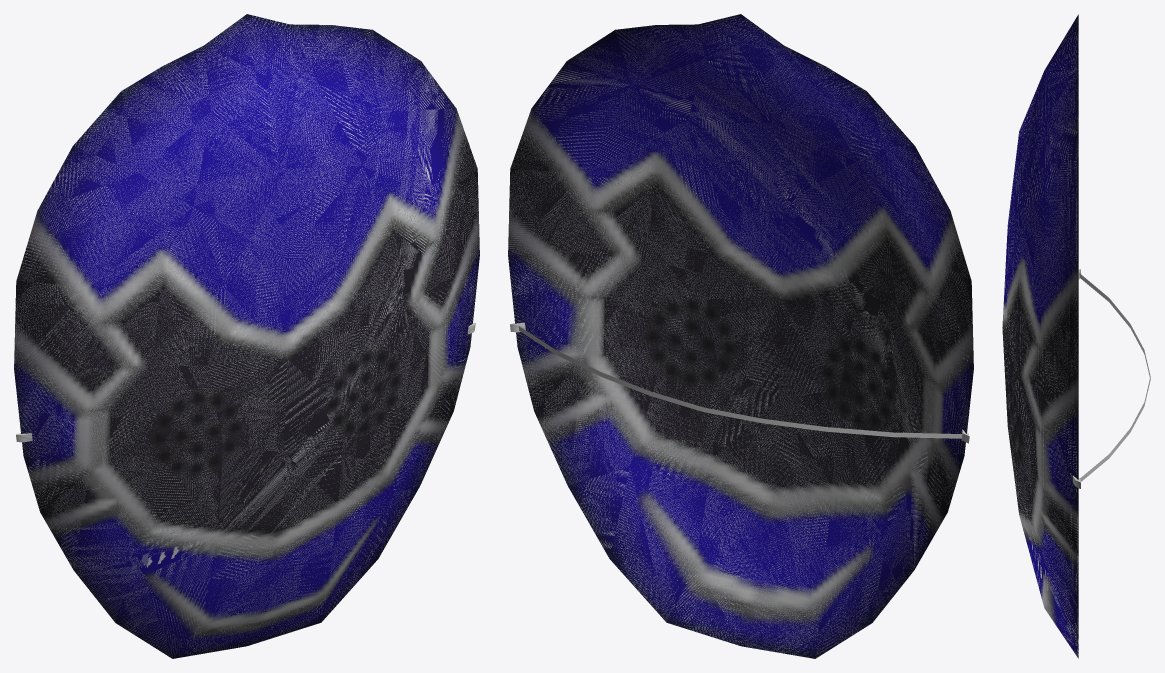
The model's file is jsf_Mask_02.fbx.
The picture shows the model from 3 angles, left to right: view 1: azimuth 30°, elevation 25°; view 2: azimuth 150°, elevation 25°; view 3: azimuth 270°, elevation 25°; orthographic projection. The views are drawn at different scales.
Visible parts, largest first — view 1: Mask_02; view 2: Mask_02, ElasticBand_02; view 3: Mask_02, ElasticBand_02.
Part boxes in pixels (<box>): Mask_02: <box>14,14,479,658</box>; Mask_02: <box>508,14,973,658</box>; ElasticBand_02: <box>518,326,962,438</box>; Mask_02: <box>1002,14,1080,658</box>; ElasticBand_02: <box>1079,273,1150,481</box>.
Bounding box in the file's own units: 20.13 × 26.11 × 5.82.
